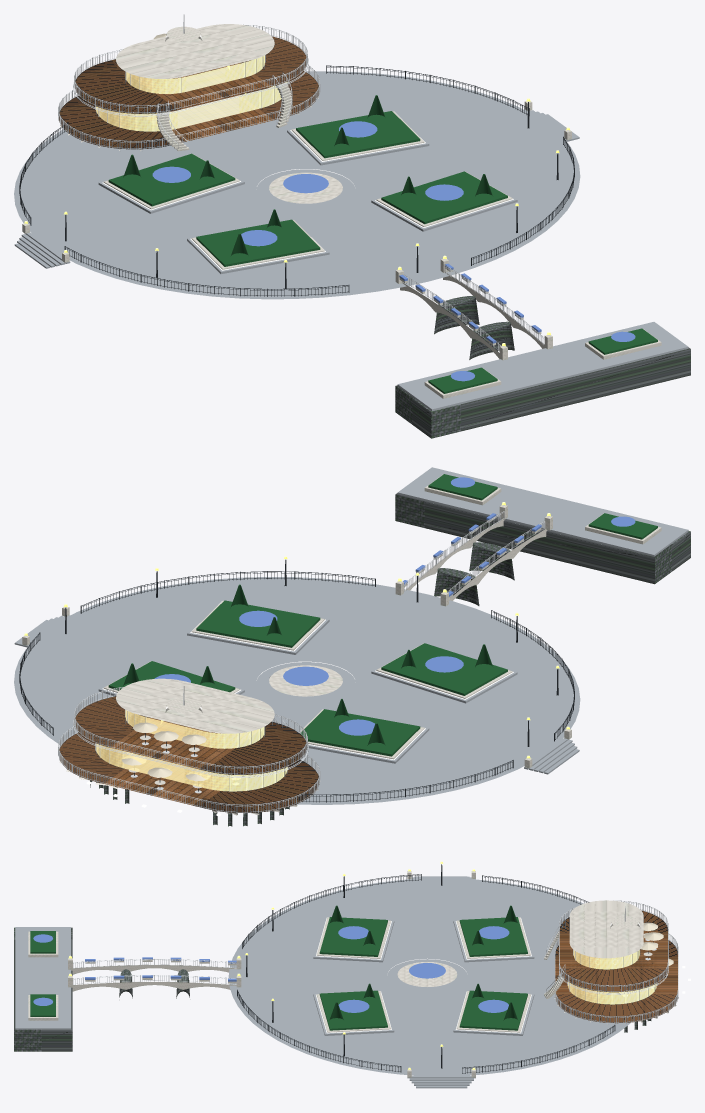
Rendered from ultra_lm_06_nha_hang_thuy_ta.glb.
The picture shows the model from 3 angles, top to bottom: view 1: azimuth 30°, elevation 25°; view 2: azimuth 150°, elevation 25°; view 3: azimuth 270°, elevation 25°; orthographic projection. The views are drawn at different scales.
Visible parts, largest first — view 1: DewWet_Granite_Promenade_And_Steps, Trimmed_Parterre_Boxwood_And_Topiary, Streamline_Moderne_White_Pavilion_1024PBR, Overwater_Teak_Terrace_Decks_1024PBR, Island_Seawall_And_Spillway_1024PBR, Nautical_Pipe_And_Bridge_Balustrades, Curved_Ribbon_Windows_1024PBR_Blend085, Ornamental_WroughtIron_Scrollwork, Dalat_Hydrangea_Floral_Beds, Facade_And_Bridge_Night_Floodlights; view 2: DewWet_Granite_Promenade_And_Steps, Overwater_Teak_Terrace_Decks_1024PBR, Trimmed_Parterre_Boxwood_And_Topiary, Streamline_Moderne_White_Pavilion_1024PBR, Island_Seawall_And_Spillway_1024PBR, Nautical_Pipe_And_Bridge_Balustrades, Curved_Ribbon_Windows_1024PBR_Blend085, Ornamental_WroughtIron_Scrollwork, Dalat_Hydrangea_Floral_Beds, Rooftop_Bistro_Parasols, Facade_And_Bridge_Night_Floodlights; view 3: DewWet_Granite_Promenade_And_Steps, Streamline_Moderne_White_Pavilion_1024PBR, Trimmed_Parterre_Boxwood_And_Topiary, Overwater_Teak_Terrace_Decks_1024PBR, Nautical_Pipe_And_Bridge_Balustrades, Ornamental_WroughtIron_Scrollwork, Dalat_Hydrangea_Floral_Beds, Island_Seawall_And_Spillway_1024PBR, Curved_Ribbon_Windows_1024PBR_Blend085, Facade_And_Bridge_Night_Floodlights, Rooftop_Bistro_Parasols.
Part boxes in pixels (bbox=[...]): DewWet_Granite_Promenade_And_Steps: bbox=[14, 71, 688, 411]; Trimmed_Parterre_Boxwood_And_Topiary: bbox=[108, 95, 657, 393]; Streamline_Moderne_White_Pavilion_1024PBR: bbox=[22, 24, 661, 398]; Overwater_Teak_Terrace_Decks_1024PBR: bbox=[59, 36, 318, 149]; Island_Seawall_And_Spillway_1024PBR: bbox=[395, 296, 690, 438]; Nautical_Pipe_And_Bridge_Balustrades: bbox=[58, 14, 544, 351]; Curved_Ribbon_Windows_1024PBR_Blend085: bbox=[96, 55, 287, 131]; Ornamental_WroughtIron_Scrollwork: bbox=[19, 65, 574, 296]; Dalat_Hydrangea_Floral_Beds: bbox=[152, 121, 635, 381]; Facade_And_Bridge_Night_Floodlights: bbox=[102, 35, 513, 270]; DewWet_Granite_Promenade_And_Steps: bbox=[14, 467, 688, 804]; Overwater_Teak_Terrace_Decks_1024PBR: bbox=[59, 696, 318, 812]; Trimmed_Parterre_Boxwood_And_Topiary: bbox=[108, 474, 657, 756]; Streamline_Moderne_White_Pavilion_1024PBR: bbox=[22, 475, 661, 815]; Island_Seawall_And_Spillway_1024PBR: bbox=[90, 493, 690, 826]; Nautical_Pipe_And_Bridge_Balustrades: bbox=[58, 511, 545, 813]; Curved_Ribbon_Windows_1024PBR_Blend085: bbox=[96, 710, 287, 791]; Ornamental_WroughtIron_Scrollwork: bbox=[19, 559, 574, 802]; Dalat_Hydrangea_Floral_Beds: bbox=[154, 477, 635, 735]; Rooftop_Bistro_Parasols: bbox=[121, 722, 209, 781]; Facade_And_Bridge_Night_Floodlights: bbox=[86, 601, 513, 816]; DewWet_Granite_Promenade_And_Steps: bbox=[15, 876, 630, 1088]; Streamline_Moderne_White_Pavilion_1024PBR: bbox=[28, 871, 678, 1077]; Trimmed_Parterre_Boxwood_And_Topiary: bbox=[30, 905, 527, 1030]; Overwater_Teak_Terrace_Decks_1024PBR: bbox=[555, 910, 677, 1023]; Nautical_Pipe_And_Bridge_Balustrades: bbox=[73, 900, 678, 1023]; Ornamental_WroughtIron_Scrollwork: bbox=[237, 864, 653, 1073]; Dalat_Hydrangea_Floral_Beds: bbox=[33, 926, 509, 1012]; Island_Seawall_And_Spillway_1024PBR: bbox=[14, 927, 651, 1051]; Curved_Ribbon_Windows_1024PBR_Blend085: bbox=[568, 950, 656, 1004]; Facade_And_Bridge_Night_Floodlights: bbox=[316, 917, 690, 1033]; Rooftop_Bistro_Parasols: bbox=[641, 922, 673, 965].
Size of the model in its own units: 69.86 by 14.58 by 94.81.
12 materials, 4 textured.
